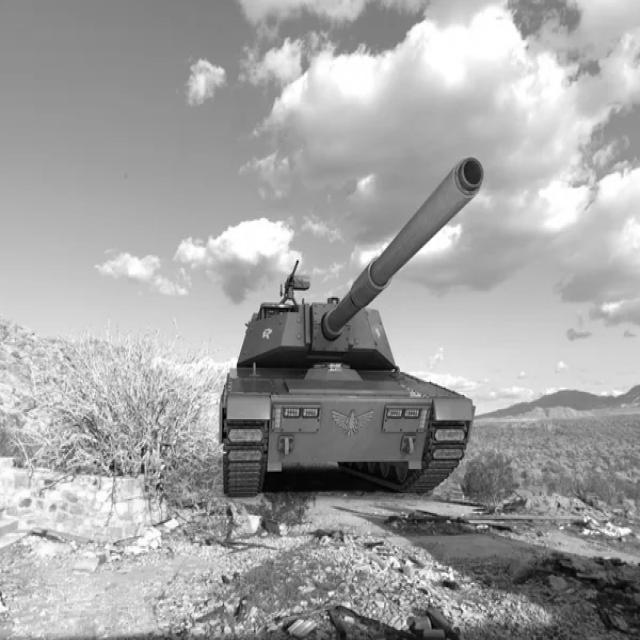Tank: (206, 140, 492, 506)
